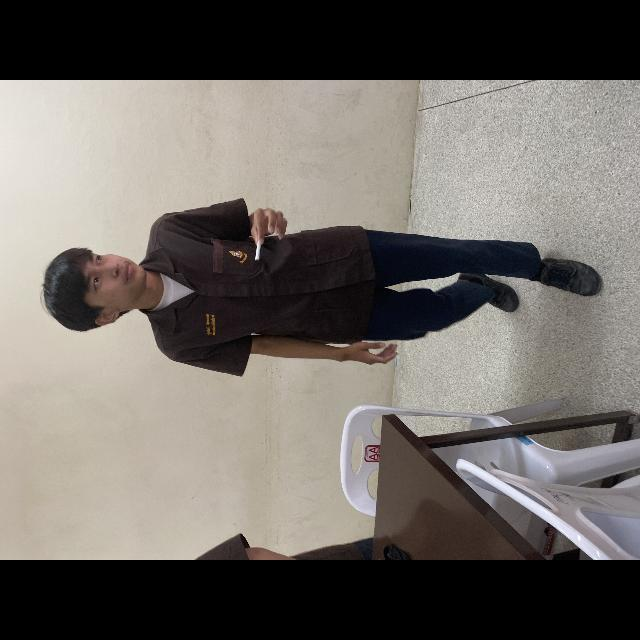rokok: (252, 238, 264, 262)
